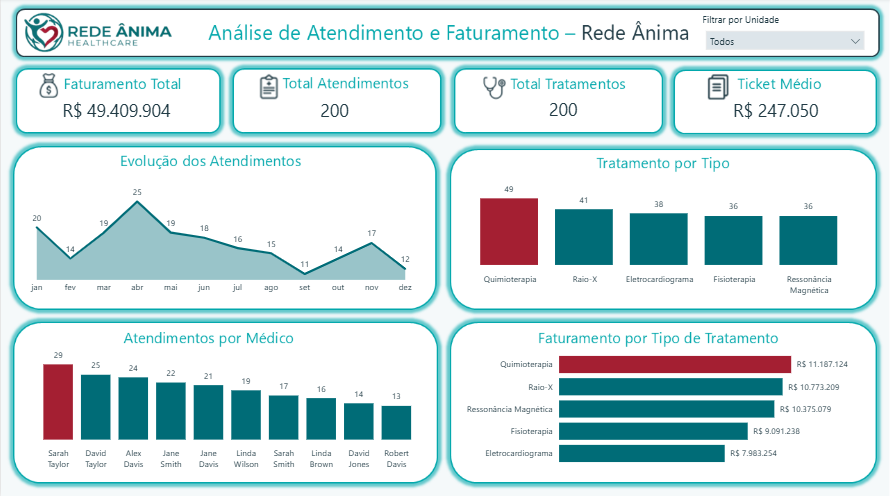

The page's visual inventory and layout, read from the dashboard file:
{"tool":"powerbi","page":{"name":"Análise de Atendimento e Faturamento","canvas":[1280,720],"ordinal":0},"visuals":[{"type":"card","fields":{"Values":["_Medidas.Faturamento Total"]},"box":[28,133.3,277.3,58.7],"z":0},{"type":"areaChart","fields":{"Category":["dCalendario.Mês Nome Curto"],"Y":["_Medidas.Qtd. Atendimentos"]},"box":[28.1,242.1,578.9,193],"z":1000},{"type":"clusteredColumnChart","fields":{"Category":["fTratamento.Tipo"],"Y":["_Medidas.Qtd. Tratamentos"]},"box":[624.2,250,630.3,184.8],"z":2000},{"type":"clusteredBarChart","fields":{"Y":["_Medidas.Faturamento Total"],"Category":["fTratamento.Tipo"]},"box":[656,489.3,568,197.3],"z":3000},{"type":"columnChart","fields":{"Category":["dMedicos.Nome Completo"],"Y":["_Medidas.Qtd. Atendimentos"]},"box":[28,489.3,590.7,197.3],"z":4000},{"type":"card","fields":{"Values":["_Medidas.Qtd. Atendimentos"]},"box":[341.3,132.5,277.9,59],"z":5000},{"type":"card","fields":{"Values":["_Medidas.Qtd. Tratamentos"]},"box":[669.3,132,280,58.7],"z":6000},{"type":"card","fields":{"Values":["_Medidas.Ticket Médio por Tratamento"]},"box":[976,133.3,278.7,58.7],"z":7000},{"type":"slicer","title":"Filtrar por Unidade","fields":{"Values":["dMedicos.Unidade"]},"box":[1005.6,37,248.1,37],"z":8000},{"type":"textbox","box":[1005.3,17.5,136.8,38.6],"z":9000}]}

Visuals, with their boxes in screenshot pixels (x1, y1, x2, y2), scaled from the page's 1280x720 canvas onto the 890x496 screenshot:
card - _Medidas.Faturamento Total: x1=19, y1=92, x2=212, y2=132
areaChart - dCalendario.Mês Nome Curto x _Medidas.Qtd. Atendimentos: x1=20, y1=167, x2=422, y2=300
clusteredColumnChart - fTratamento.Tipo x _Medidas.Qtd. Tratamentos: x1=434, y1=172, x2=872, y2=300
clusteredBarChart - _Medidas.Faturamento Total x fTratamento.Tipo: x1=456, y1=337, x2=851, y2=473
columnChart - dMedicos.Nome Completo x _Medidas.Qtd. Atendimentos: x1=19, y1=337, x2=430, y2=473
card - _Medidas.Qtd. Atendimentos: x1=237, y1=91, x2=431, y2=132
card - _Medidas.Qtd. Tratamentos: x1=465, y1=91, x2=660, y2=131
card - _Medidas.Ticket Médio por Tratamento: x1=679, y1=92, x2=872, y2=132
"Filtrar por Unidade" slicer: x1=699, y1=25, x2=872, y2=51
textbox: x1=699, y1=12, x2=794, y2=39
